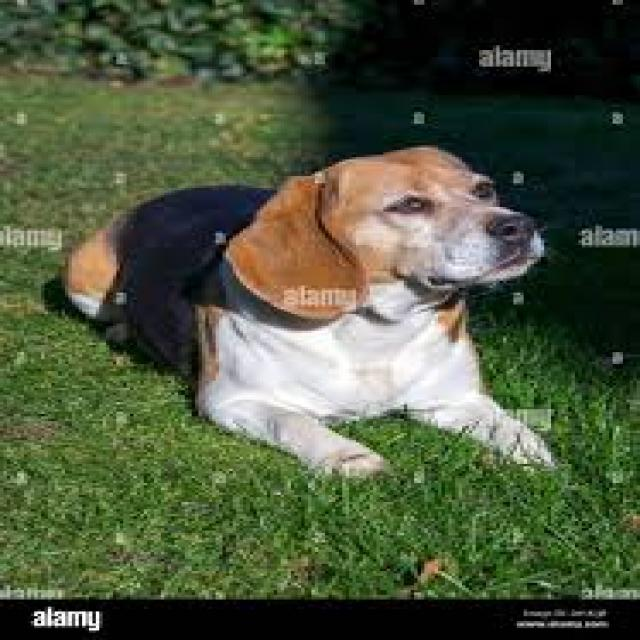Dog: (53, 142, 561, 484)
